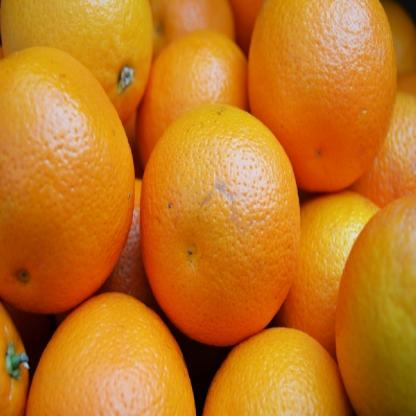orange: (132, 102, 309, 343), (0, 48, 138, 309), (251, 0, 400, 194), (127, 25, 274, 217), (25, 283, 208, 415)
